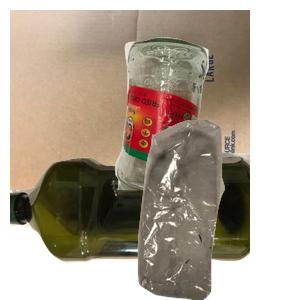cardboard: (10, 10, 250, 190)
glass: (112, 35, 300, 215)
plastic: (10, 149, 250, 300)
trash: (114, 120, 300, 300)
